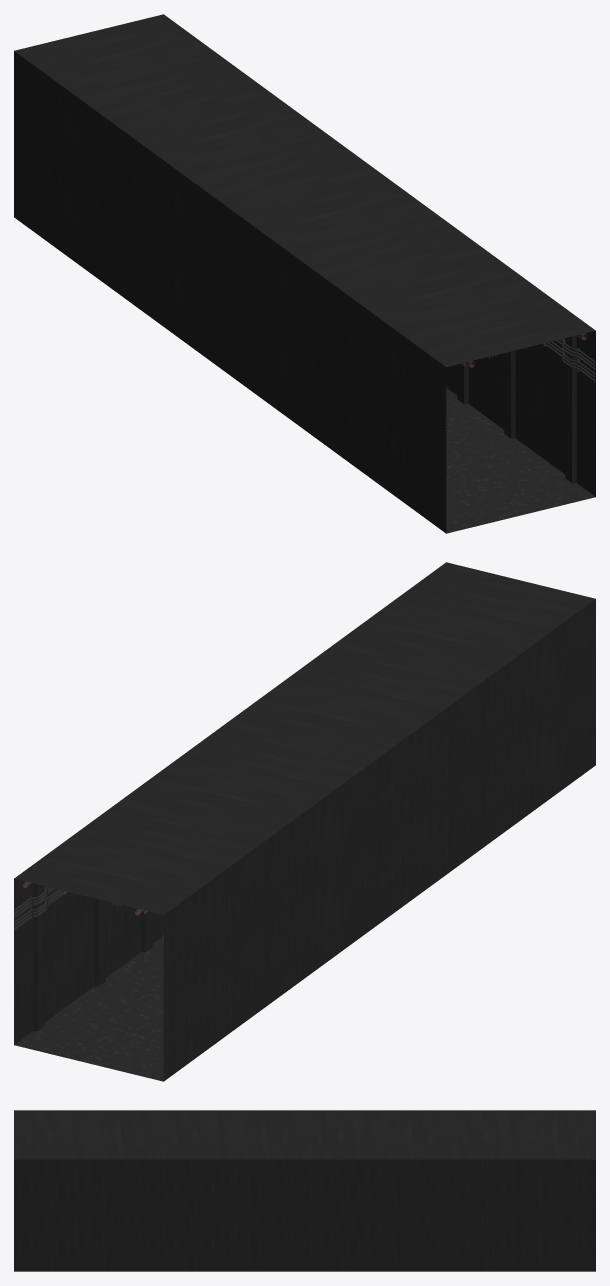
The model's file is SW_ENV_RailTunnel_B_01_Single_20m_FF.fbx.
The picture shows the model from 3 angles, top to bottom: view 1: azimuth 30°, elevation 25°; view 2: azimuth 150°, elevation 25°; view 3: azimuth 270°, elevation 25°; orthographic projection. The views are drawn at different scales.
Visible parts, largest first — view 1: SW_ENV_RailTunnel_B_01_Single_20m_FF; view 2: SW_ENV_RailTunnel_B_01_Single_20m_FF; view 3: SW_ENV_RailTunnel_B_01_Single_20m_FF.
Part boxes in pixels (<box>): SW_ENV_RailTunnel_B_01_Single_20m_FF: <box>14,14,595,533</box>; SW_ENV_RailTunnel_B_01_Single_20m_FF: <box>14,562,595,1081</box>; SW_ENV_RailTunnel_B_01_Single_20m_FF: <box>14,1110,595,1271</box>.
Bounding box in the file's own units: 4 × 4.25 × 20.
